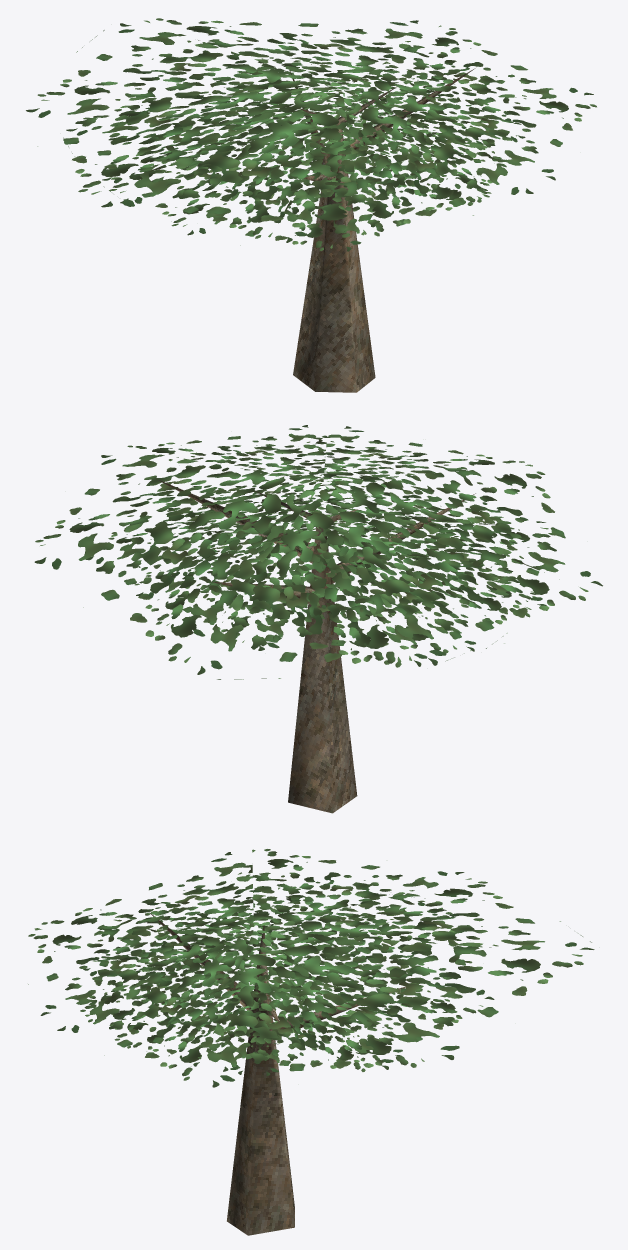
File: treeBig.fbx
The picture shows the model from 3 angles, top to bottom: view 1: azimuth 30°, elevation 25°; view 2: azimuth 150°, elevation 25°; view 3: azimuth 270°, elevation 25°; orthographic projection. The views are drawn at different scales.
Visible parts, largest first — view 1: treeBig; view 2: treeBig; view 3: treeBig.
Boxes of the visible parts, x1,y1,x2,y2 form: treeBig: (26, 18, 596, 392); treeBig: (34, 425, 602, 813); treeBig: (28, 849, 594, 1235).
Size of the model in its own units: 4000 by 2174 by 4053.
